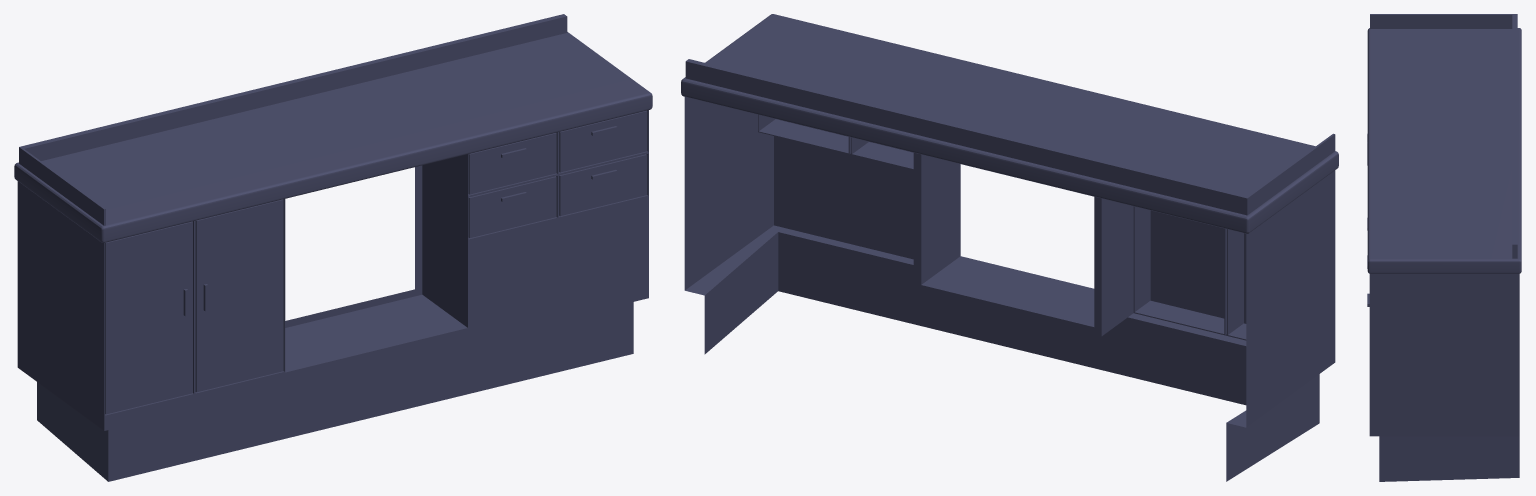
File: StoveCounter.gltf
3 views of the same model, side by side, from view 1: azimuth 30°, elevation 25°; view 2: azimuth 150°, elevation 25°; view 3: azimuth 270°, elevation 25° (orthographic). The views are drawn at different scales.
Parts seen in each view (by area): view 1: Cabinet04; view 2: Cabinet04; view 3: Cabinet04.
Part boxes in pixels (left/top/right/bottom): Cabinet04: left=14, top=14, right=652, bottom=481; Cabinet04: left=681, top=14, right=1338, bottom=481; Cabinet04: left=1367, top=14, right=1521, bottom=481.
Size of the model in its own units: 12.92 by 6.25 by 3.62.
